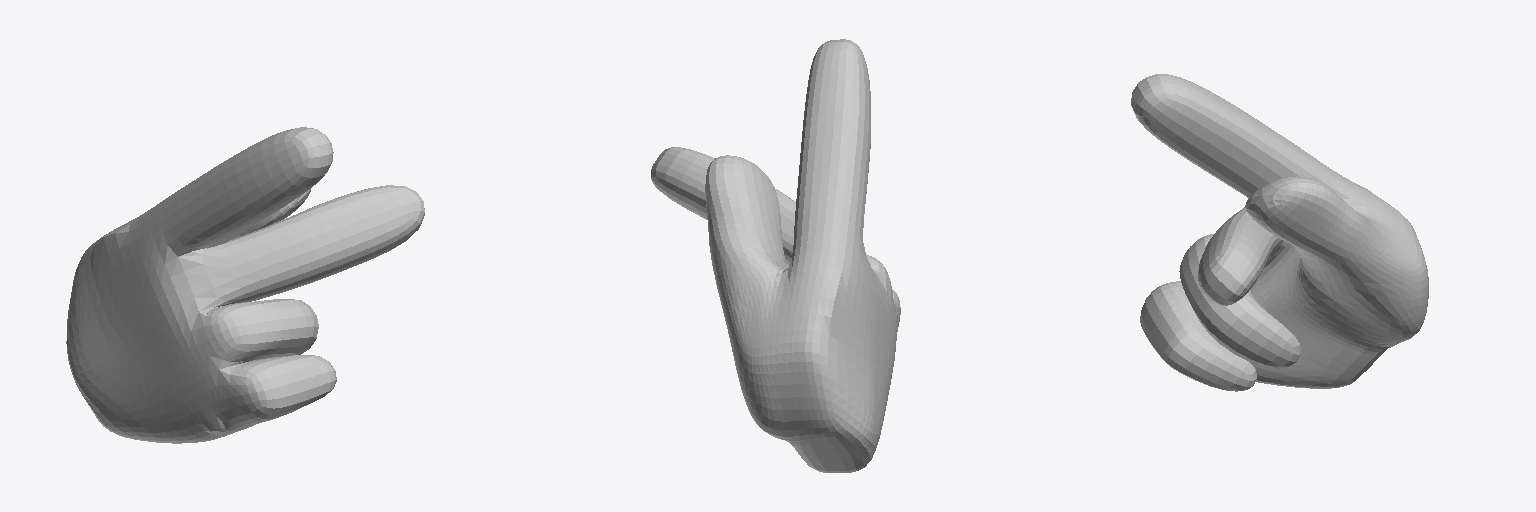
3 renders of one model, left to right at view 1: azimuth 30°, elevation 25°; view 2: azimuth 150°, elevation 25°; view 3: azimuth 270°, elevation 25°, orthographic.
Visible parts, largest first — view 1: P_Hand; view 2: P_Hand; view 3: P_Hand.
Part boxes in pixels (bbox=[...]): P_Hand: bbox=[66, 127, 424, 443]; P_Hand: bbox=[651, 39, 900, 472]; P_Hand: bbox=[1131, 74, 1428, 391].
Size of the model in its own units: 137 by 162 by 127.